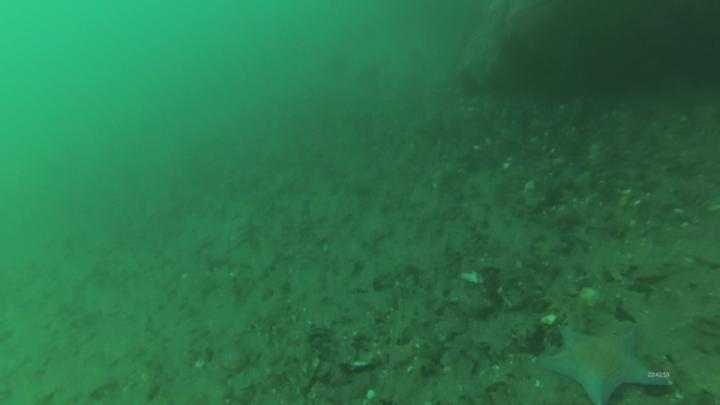starfish: (534, 320, 675, 405), (232, 213, 267, 254)
